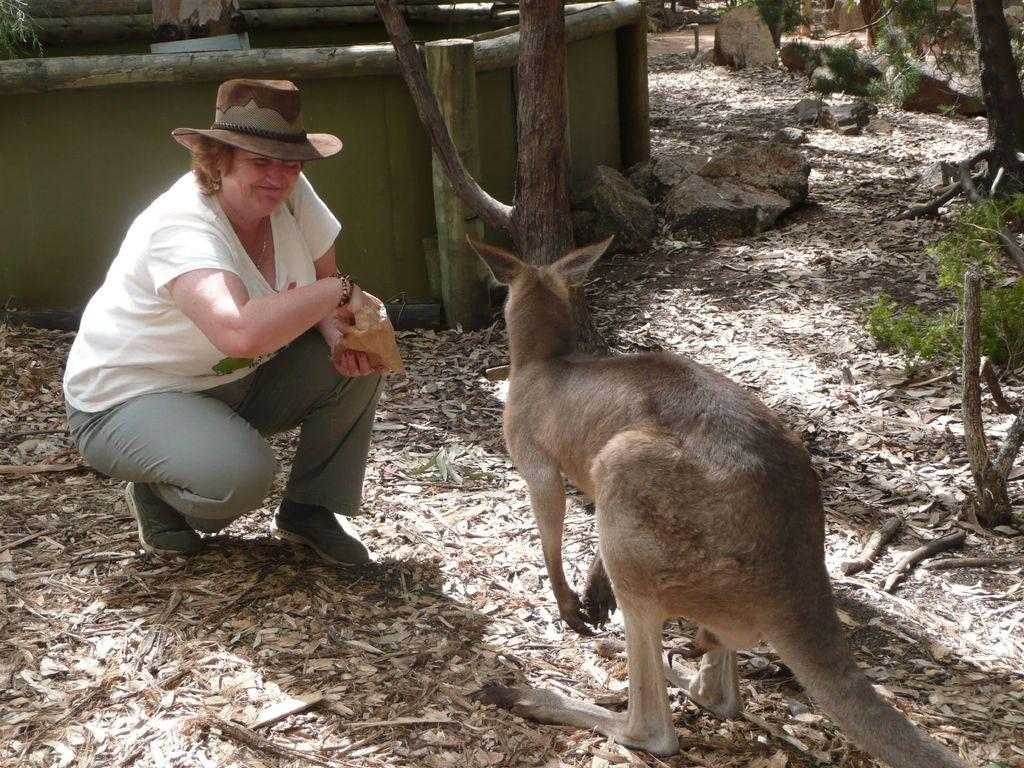kangaroo: (461, 234, 976, 768)
